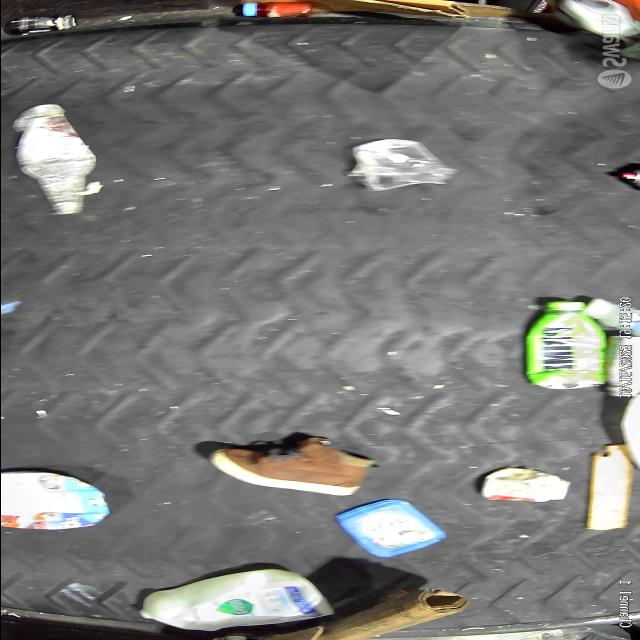milk_jug: (136, 568, 338, 632)
non_white_jug: (523, 299, 605, 391)
plastic_bottle: (12, 103, 102, 218)
